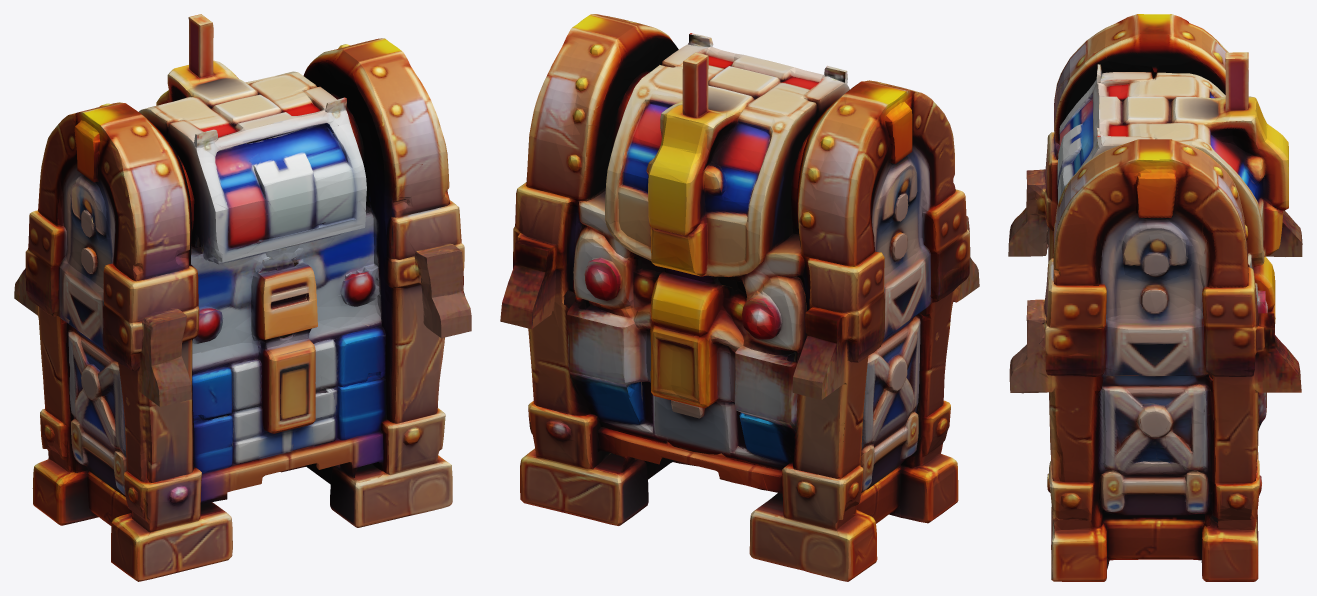
3 views of the same model, side by side, from view 1: azimuth 30°, elevation 25°; view 2: azimuth 150°, elevation 25°; view 3: azimuth 270°, elevation 25° (orthographic). The views are drawn at different scales.
Parts seen in each view (by area): view 1: world; view 2: world; view 3: world.
Part boxes in pixels (bbox=[...]): world: bbox=[14, 14, 471, 581]; world: bbox=[500, 14, 979, 581]; world: bbox=[1008, 14, 1302, 581].
Bounding box in the file's own units: 0.7575 × 0.9922 × 0.5856.
1 material, 1 textured.
